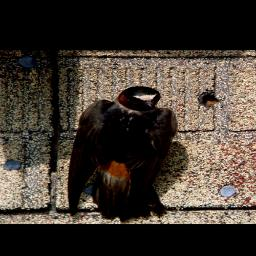Swallow: (65, 85, 177, 223)
